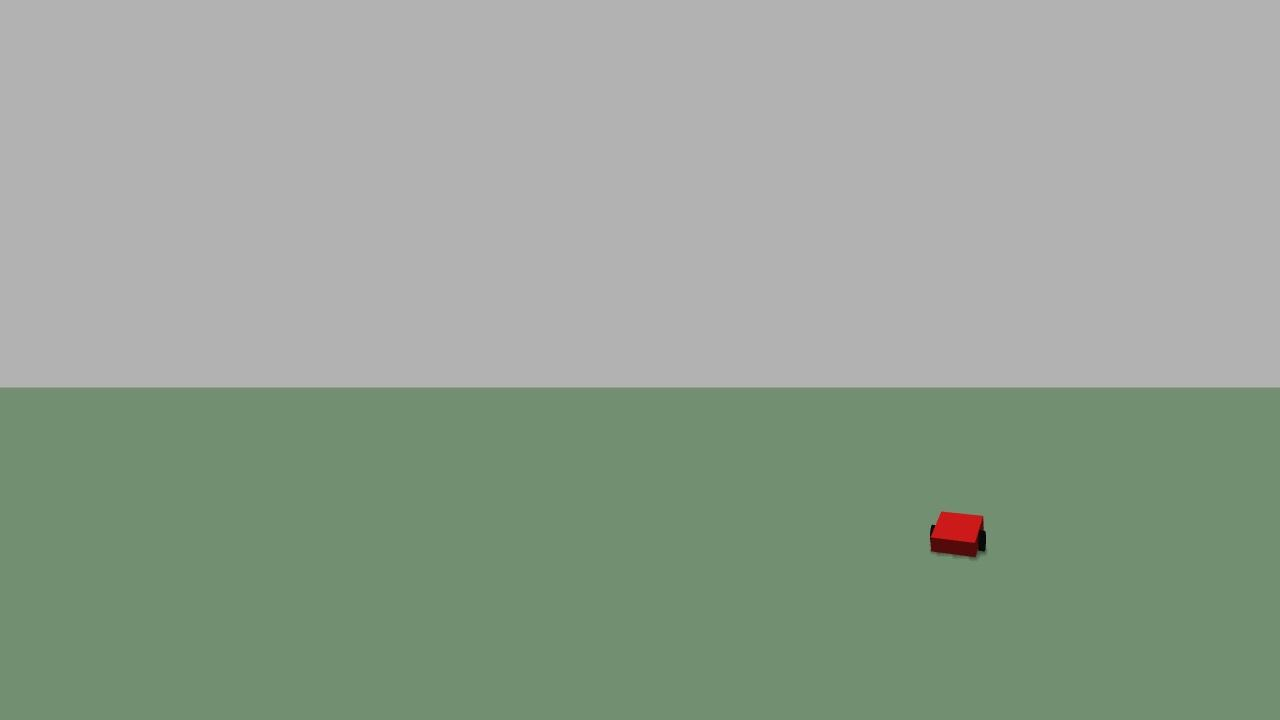ground_vehicle: (920, 496, 1000, 572)
